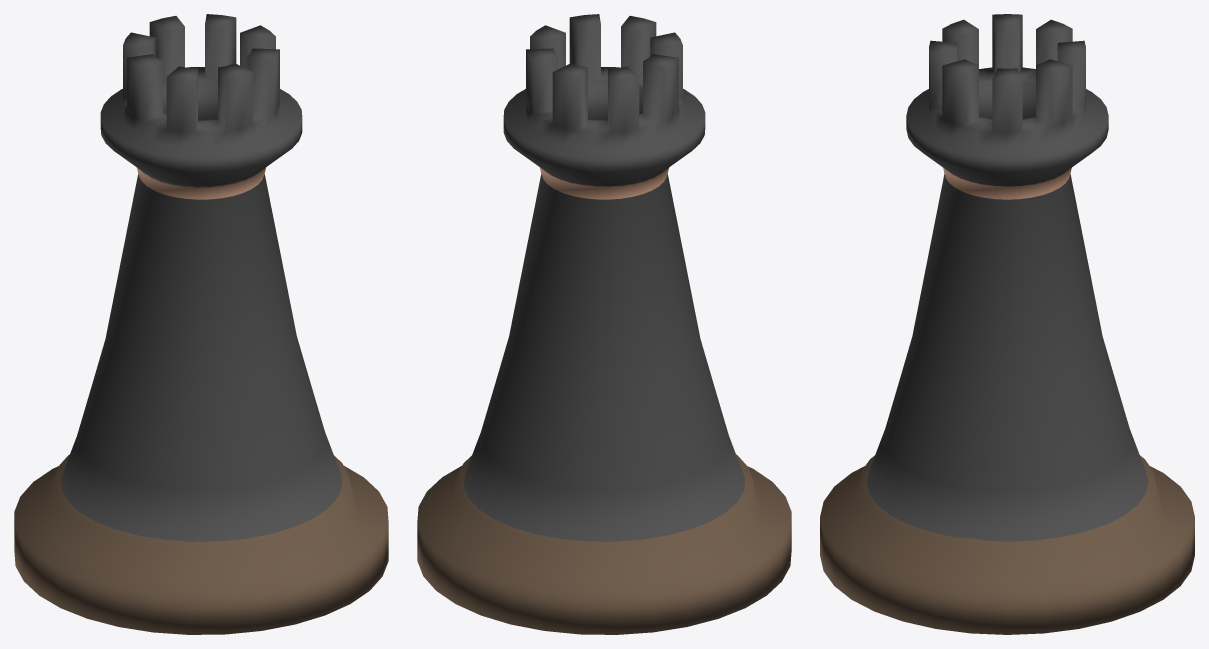
Rendered from Rook.gltf.
3 renders of one model, left to right at view 1: azimuth 30°, elevation 25°; view 2: azimuth 150°, elevation 25°; view 3: azimuth 270°, elevation 25°, orthographic.
Visible parts, largest first — view 1: ルーク.001; view 2: ルーク.001; view 3: ルーク.001.
Part boxes in pixels (left/top/right/bottom): ルーク.001: left=14, top=14, right=388, bottom=634; ルーク.001: left=417, top=14, right=791, bottom=634; ルーク.001: left=820, top=14, right=1194, bottom=634.
Size of the model in its own units: 0.8681 by 1.3 by 0.8681.
1 material, 1 textured.
